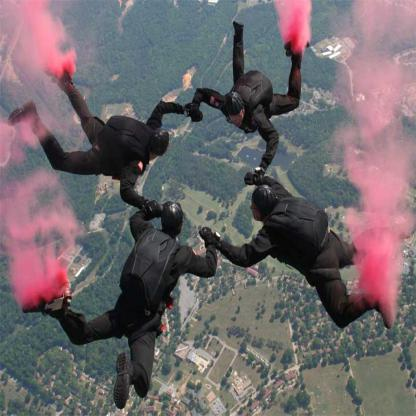face: (231, 110, 244, 127), (251, 198, 260, 221)
